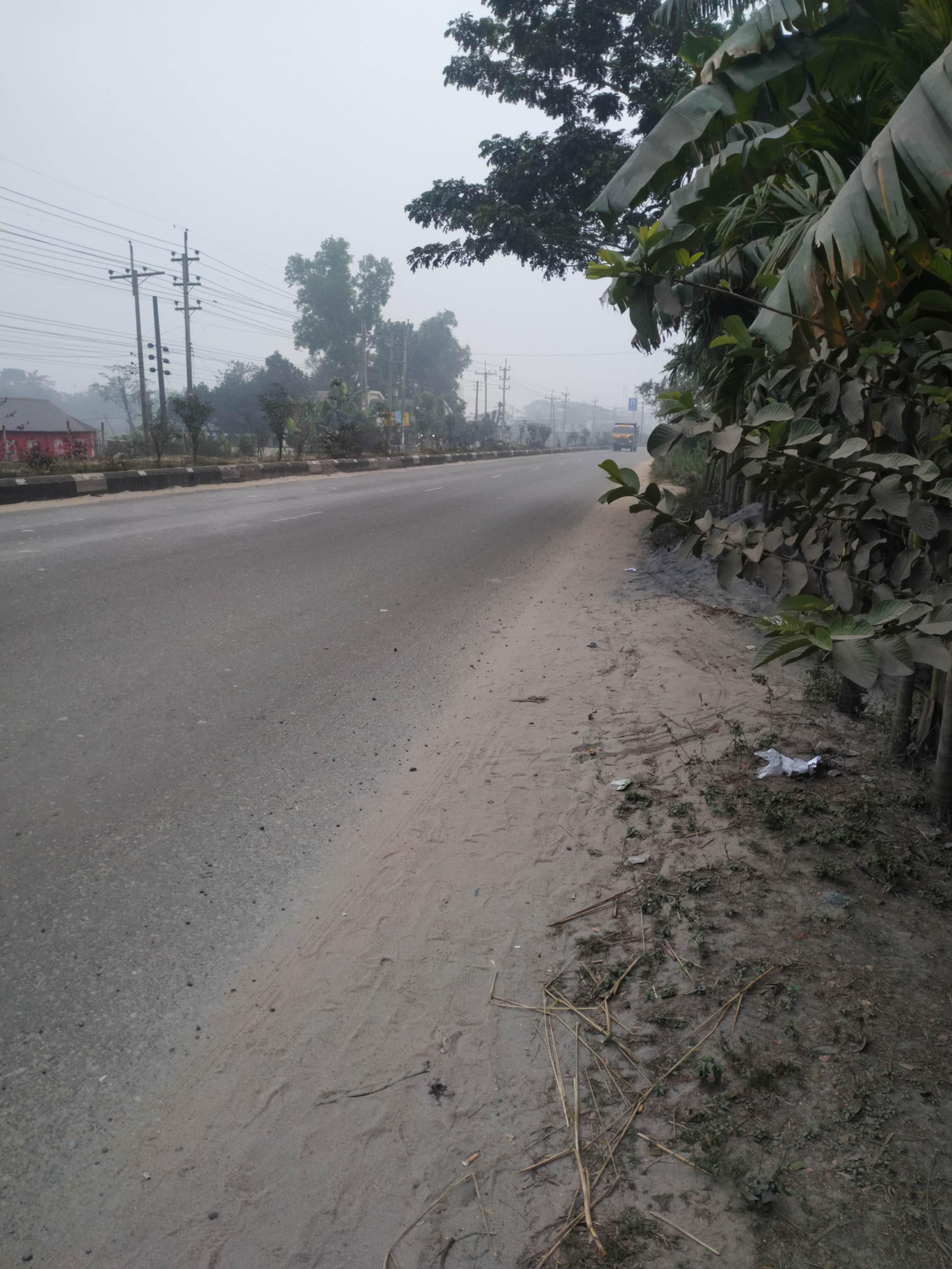Truck: (596, 416, 662, 468)
